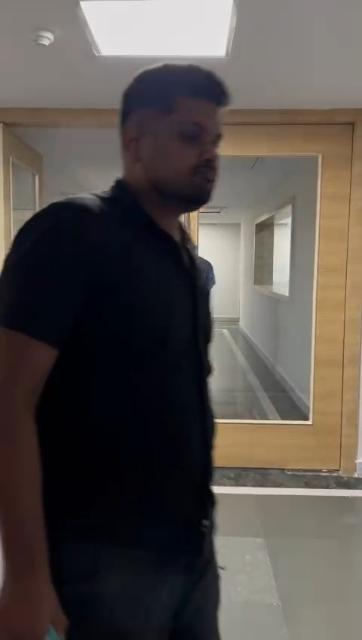floor: (222, 472, 362, 640)
moving-obj: (28, 102, 284, 640)
